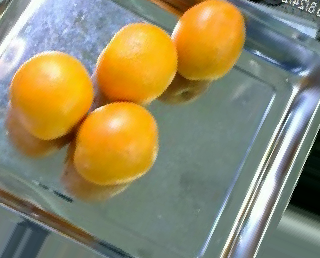Orange: (9, 49, 93, 140), (72, 101, 160, 186), (94, 21, 178, 106), (170, 1, 246, 80)
